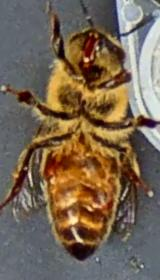varroa_mite: (81, 179, 121, 216), (34, 150, 70, 186)
